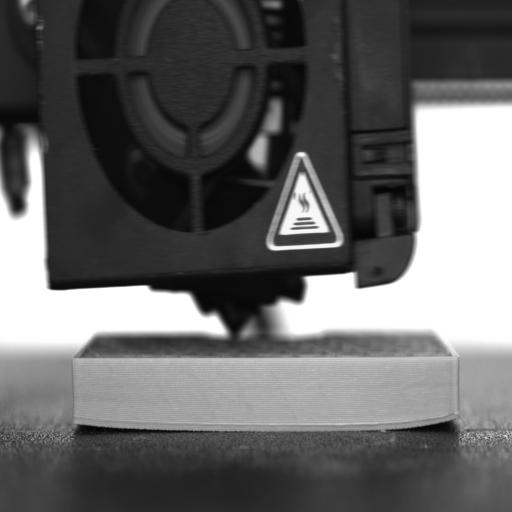warp: (412, 406, 466, 434), (67, 411, 102, 431)
